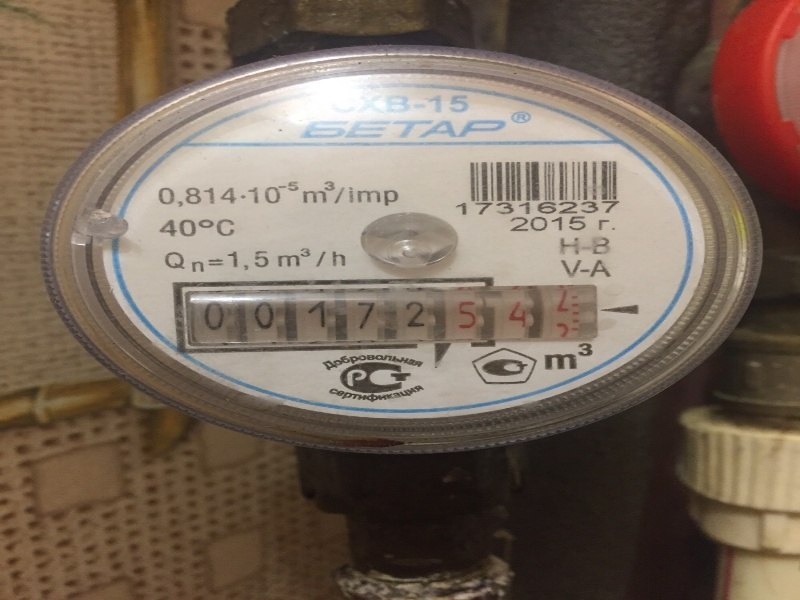meter: (172, 284, 574, 346)
